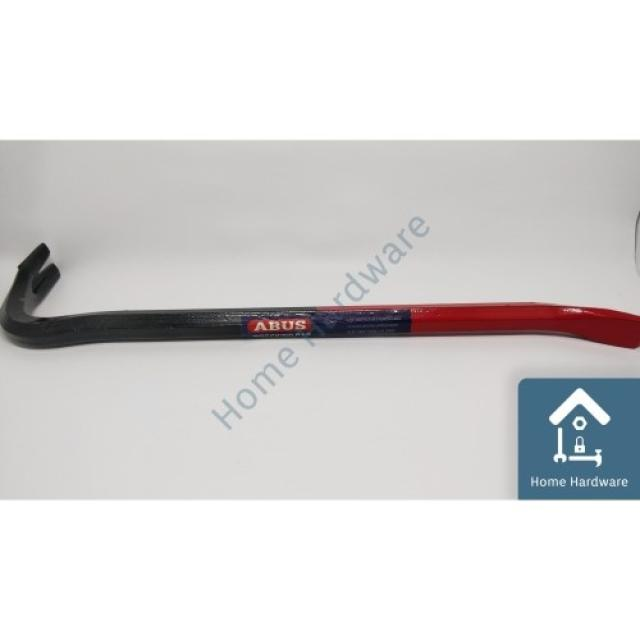Linggis: (4, 244, 640, 355)
